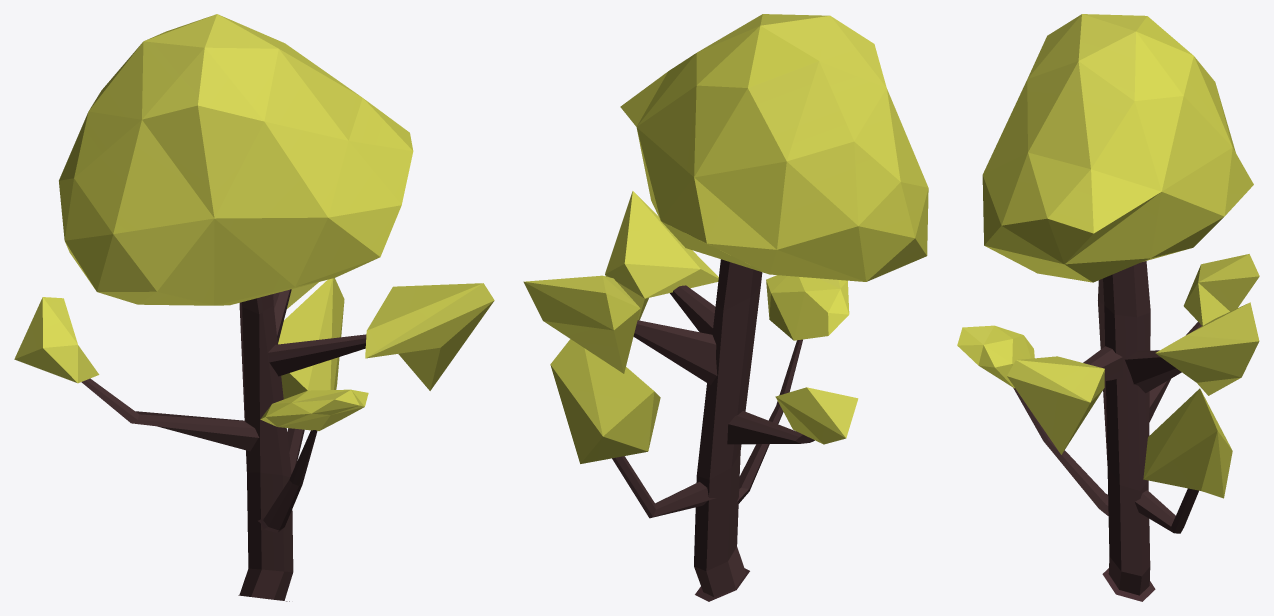
File: tree1.fbx
3 views of the same model, side by side, from view 1: azimuth 30°, elevation 25°; view 2: azimuth 150°, elevation 25°; view 3: azimuth 270°, elevation 25° (orthographic). The views are drawn at different scales.
Visible parts, largest first — view 1: Cylinder.003; view 2: Cylinder.003; view 3: Cylinder.003.
Boxes of the visible parts, x1,y1,x2,y2 form: Cylinder.003: [14, 14, 494, 601]; Cylinder.003: [523, 14, 928, 601]; Cylinder.003: [957, 14, 1259, 601].
Size of the model in its own units: 443 by 706 by 357.
